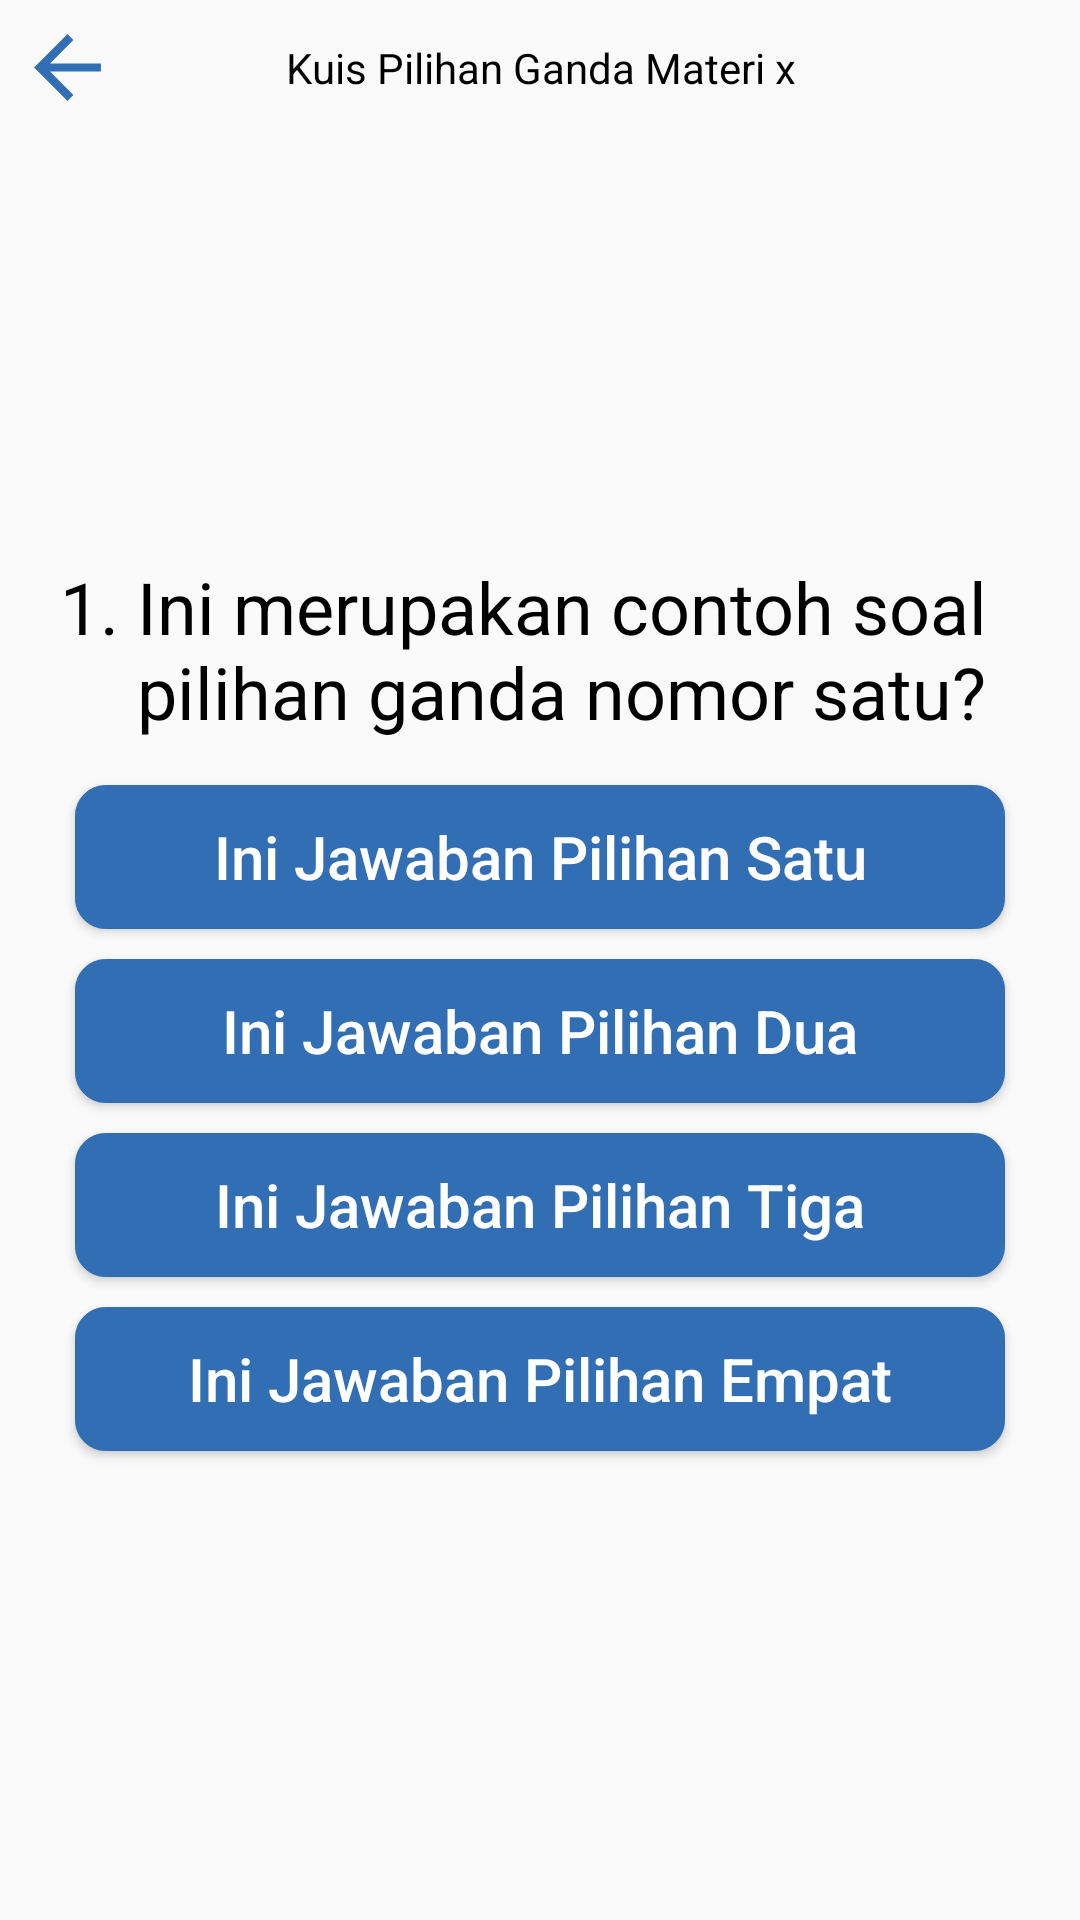

Icons on this 1080px x 1920px Android screen, each with the point to tap as (x,y):
arrow back: (67,67)
